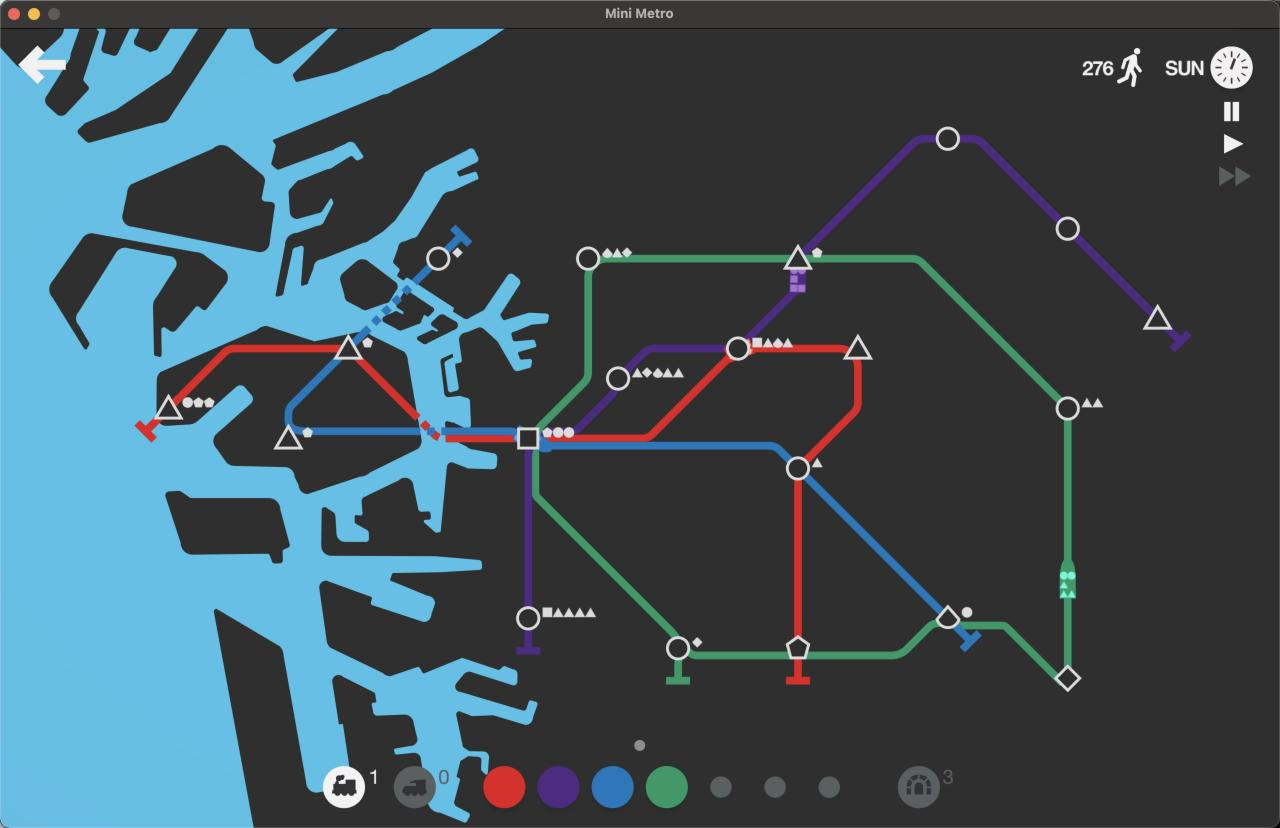CIRCLE: (515, 605, 542, 632), (785, 455, 811, 482), (665, 636, 691, 662), (725, 335, 751, 361), (425, 246, 451, 271), (1055, 396, 1081, 421), (1055, 216, 1080, 242), (575, 246, 600, 271), (606, 366, 631, 391), (935, 126, 960, 151)
GEM: (1055, 665, 1082, 692)
PENTAGON: (786, 635, 811, 659)
SQUARE: (516, 427, 540, 450)
TRIANGLE: (154, 393, 184, 424), (783, 243, 813, 272), (843, 333, 874, 361), (1142, 303, 1173, 331), (334, 333, 365, 361), (273, 423, 303, 451)
WEDGE: (936, 604, 961, 629)
